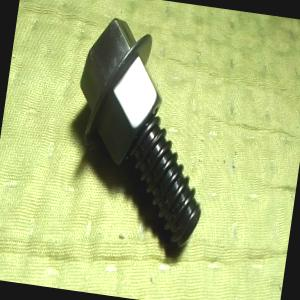parafuso: (58, 13, 226, 255)
